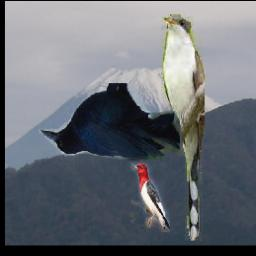Crow: (40, 84, 181, 161)
Cuckoo: (161, 15, 205, 242)
Woodpecker: (130, 163, 170, 233)
